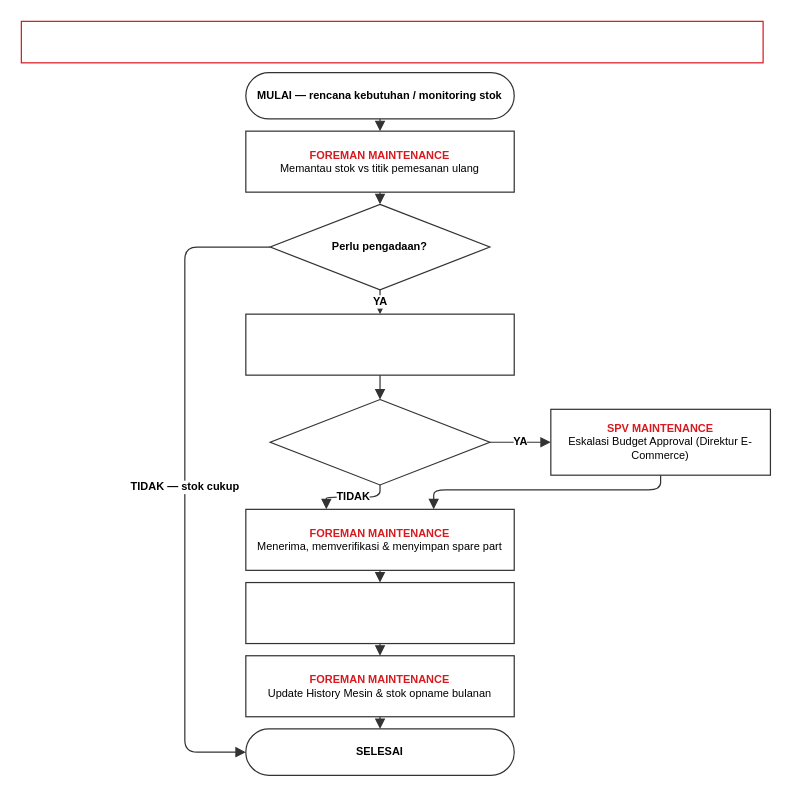
This 792x797 diagram has some shape labels left out. Each missing label, with the box of its shape:
Di atas batas anggaran GM?: (269, 398, 490, 485)
FLOW SOP-AKSI-ENG-02 SPARE PART MANAGEMENT — UTUH: (20, 20, 763, 63)
SPV MAINTENANCE Mengajukan permintaan ke Purchasing (PUR-02): (245, 313, 514, 375)
TEKNISI Mengambil & mencatat pemakaian spare part: (245, 581, 514, 644)
